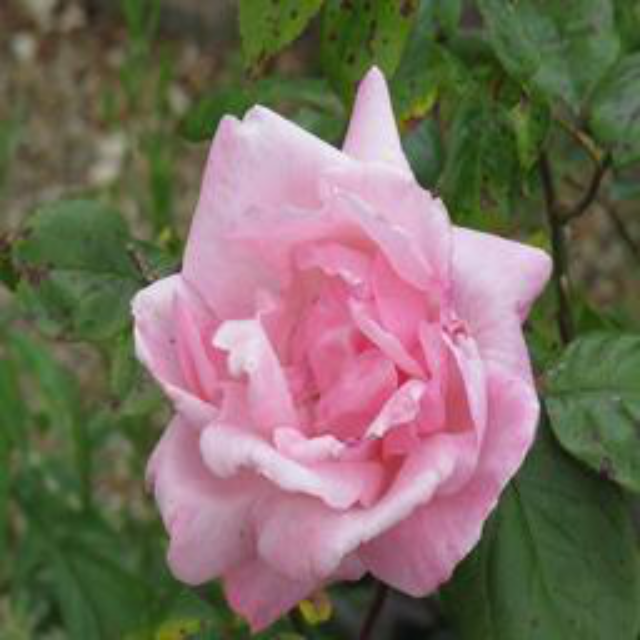rose: (124, 63, 553, 619)
